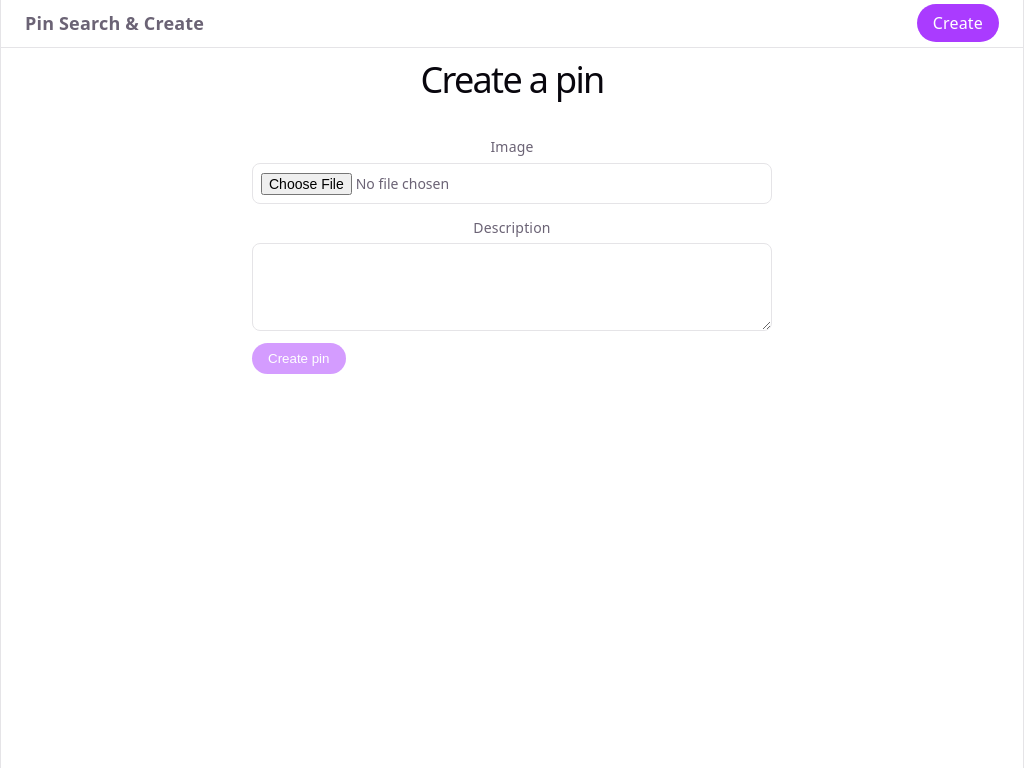
Test: AppRoutes › navigates back to / from the brand link
expect the element with test id "create-page" is shown: met, box x1=252 y1=55 x2=772 y2=374
Click the link "Pin Search & Create" at (115, 24), box x1=25 y1=12 x2=204 y2=35
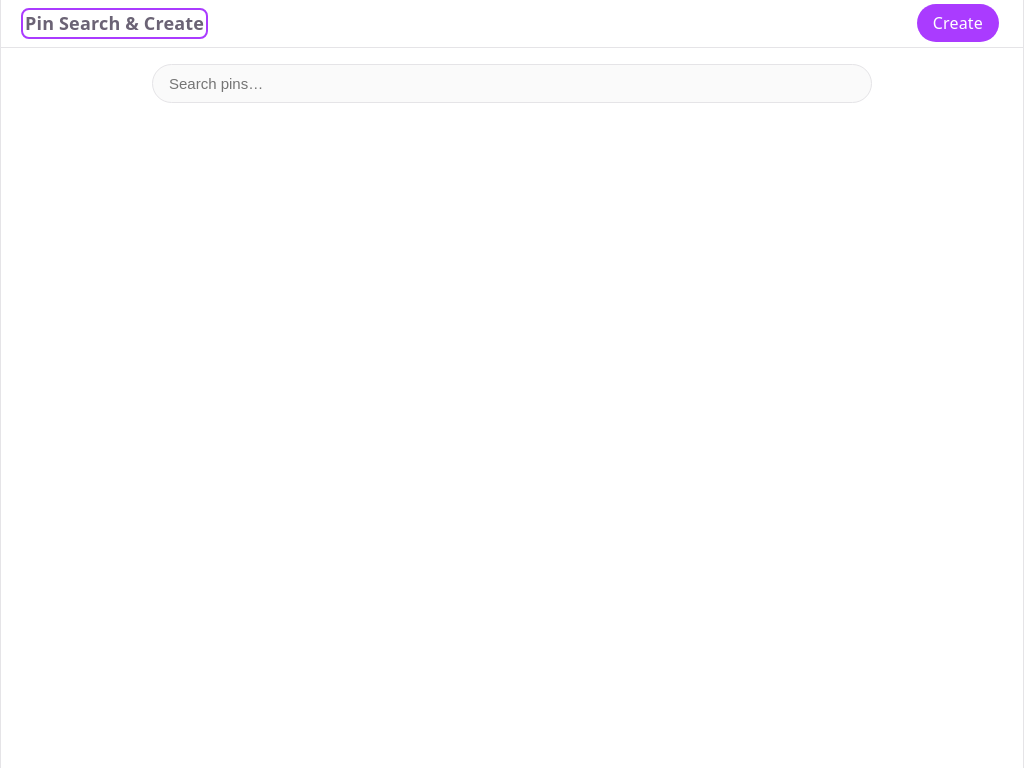
expect the element with test id "search-page" is shown: met, box x1=24 y1=50 x2=872 y2=103
